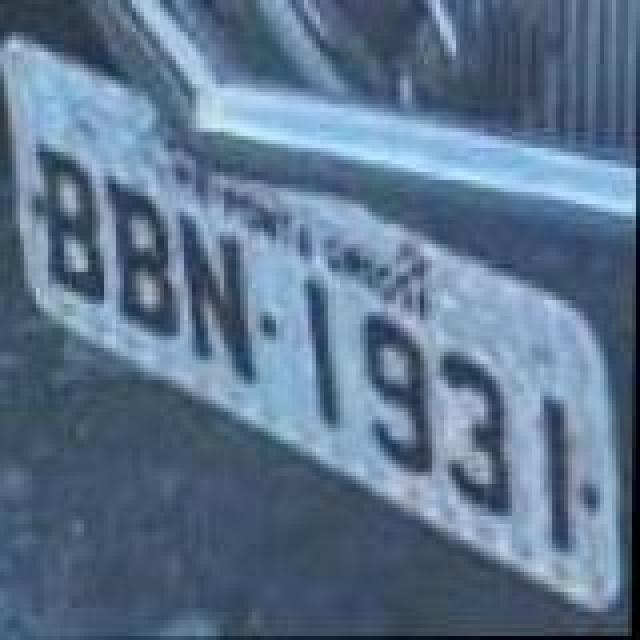1: (540, 390, 584, 562), (300, 280, 348, 436)
3: (432, 352, 516, 524)
9: (364, 312, 444, 476)
B: (98, 174, 182, 346), (32, 142, 108, 306)
N: (174, 208, 266, 388)
